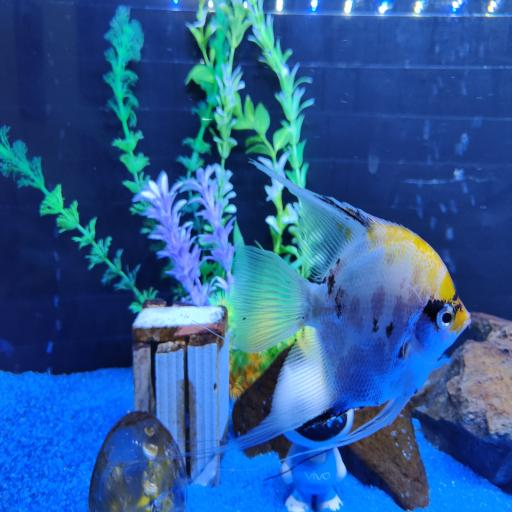Fish: (228, 163, 470, 448)
